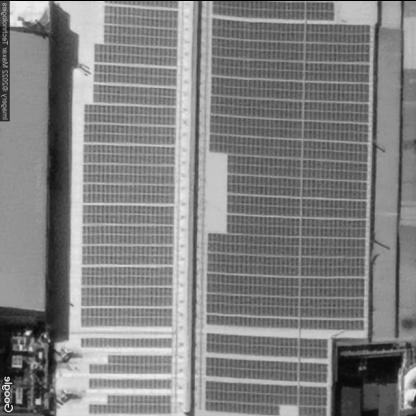solar-pv-panel: (209, 0, 371, 331), (81, 0, 179, 327), (204, 335, 327, 416), (88, 393, 170, 413), (86, 354, 171, 372), (88, 376, 172, 388), (81, 337, 170, 347)
